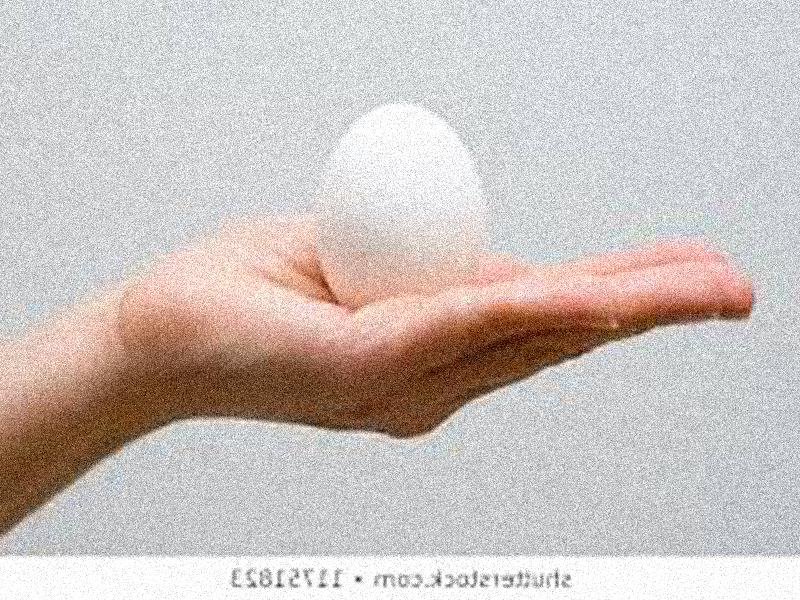Eggs: (325, 104, 485, 309)
